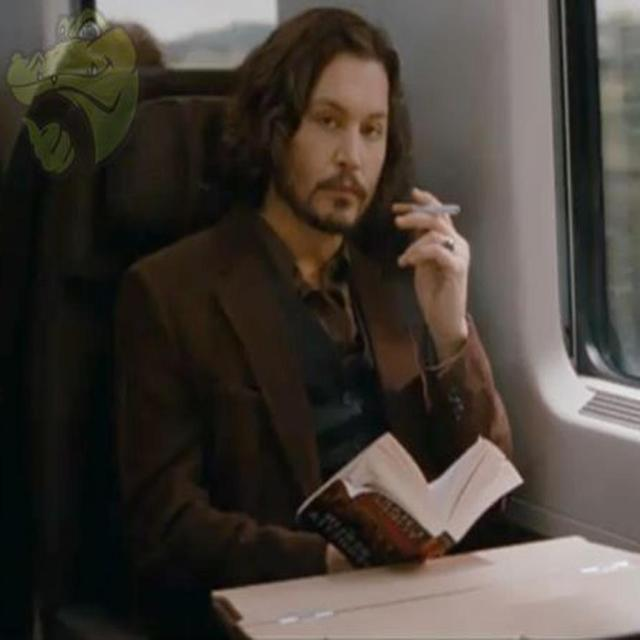smoking: (336, 163, 508, 261)
